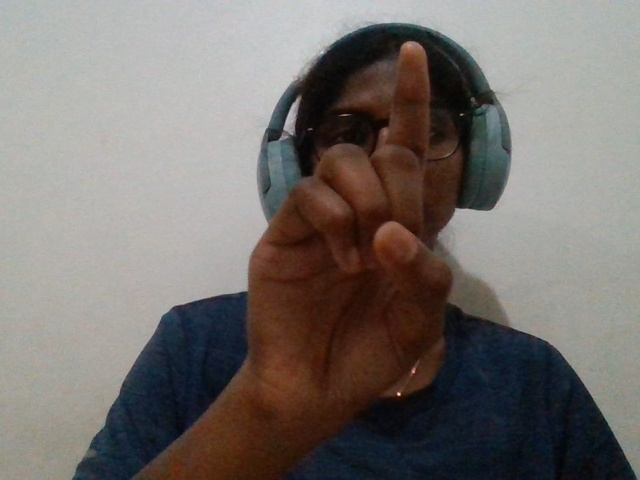D: (169, 25, 481, 480)
